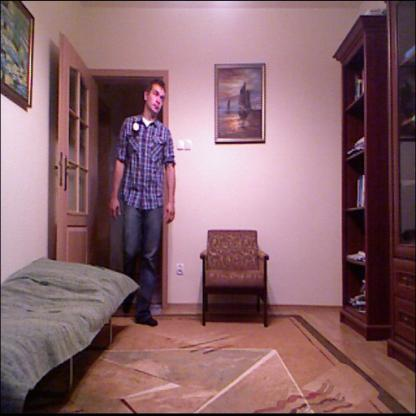normal: (110, 75, 181, 328)
